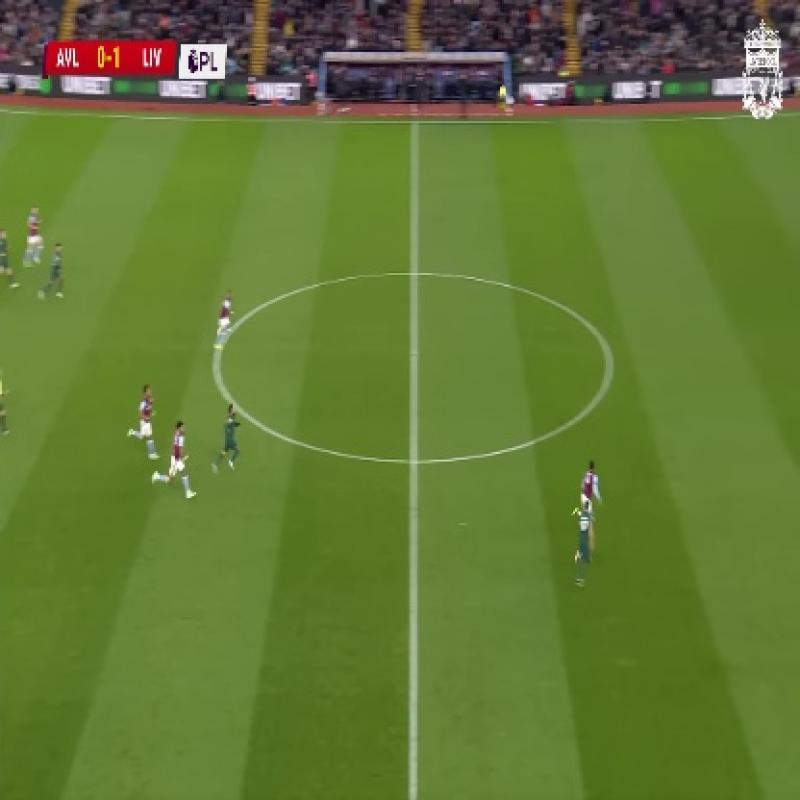13: (396, 92, 433, 150)
14: (396, 250, 431, 294)
15: (394, 434, 431, 484)
c: (198, 344, 236, 388), (595, 344, 626, 390)
